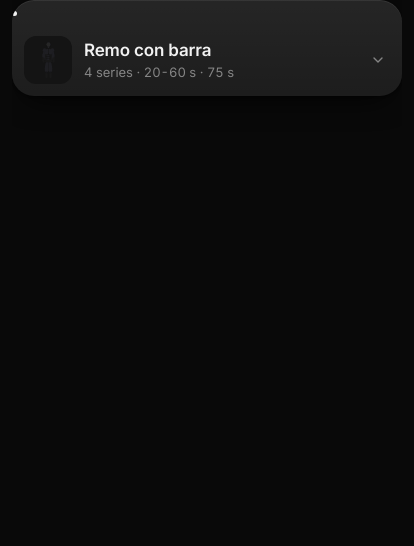
Test: fila del editor de rutina › los isométricos «20-60s» conservan la «s» al editarlos
Later steps or results of the test are not shown.
Click the button "Remo con barra 4 series · 20-60 s · 75 s". click: click(207, 60)
box: [12,24,402,96]
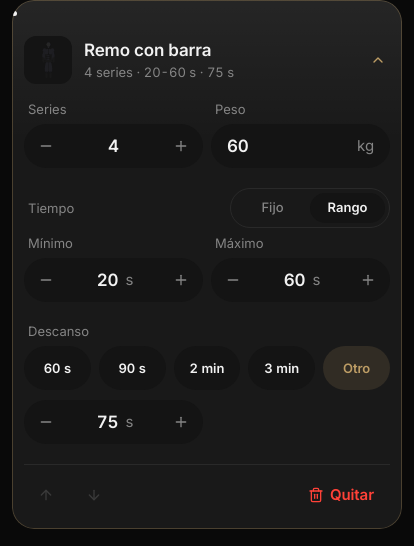
Now the field named "Mínimo de segundos" holds "20", box [94,258,122,302]
